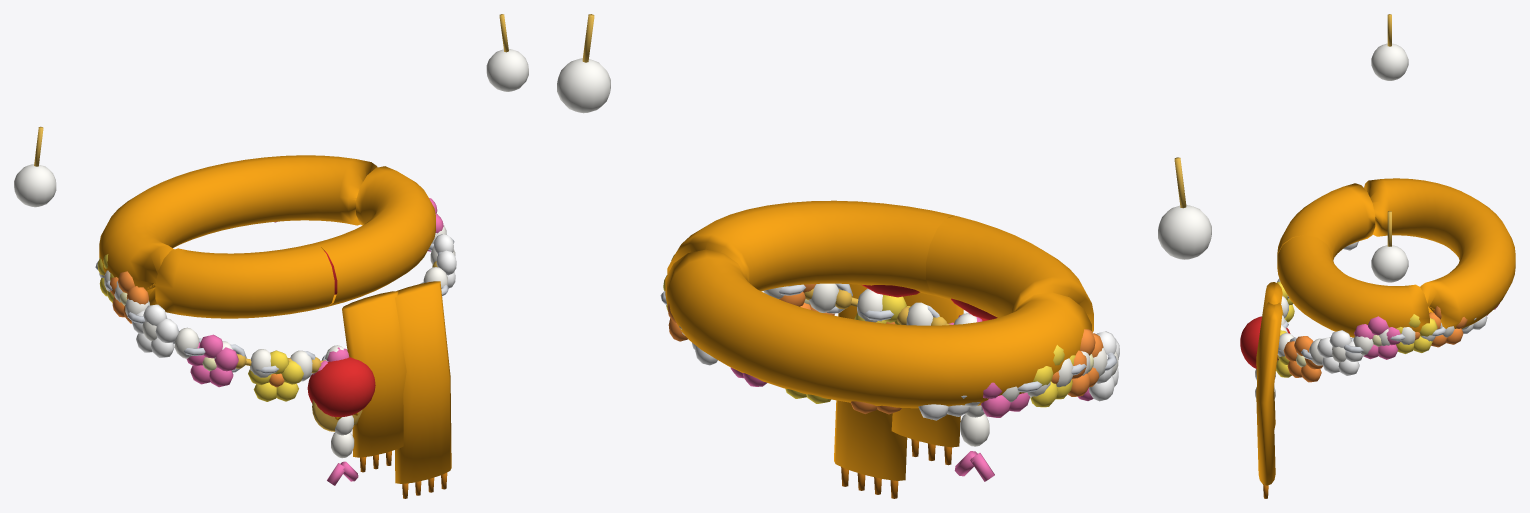
Rendered from props-j.glb.
3 renders of one model, left to right at view 1: azimuth 30°, elevation 25°; view 2: azimuth 150°, elevation 25°; view 3: azimuth 270°, elevation 25°, orthographic. The views are drawn at different scales.
Visible parts, largest first — view 1: j-scarf, j-lei, j-jasmine, j-pearl, j-chain, j-gold; view 2: j-scarf, j-lei, j-pearl, j-jasmine, j-chain, j-bowtie; view 3: j-scarf, j-lei, j-pearl, j-jasmine, j-chain.
Boxes of the visible parts, box(x1,y1,x2,y2) form: j-scarf: box(99, 155, 451, 498); j-lei: box(97, 198, 456, 401); j-jasmine: box(99, 225, 455, 485); j-pearl: box(14, 14, 528, 207); j-chain: box(95, 235, 454, 378); j-gold: box(236, 261, 437, 431); j-scarf: box(665, 200, 1093, 498); j-lei: box(663, 254, 1119, 420); j-pearl: box(557, 14, 1211, 259); j-jasmine: box(682, 283, 1118, 481); j-chain: box(660, 283, 1117, 411); j-bowtie: box(861, 284, 997, 320); j-scarf: box(1256, 178, 1515, 498); j-lei: box(1276, 241, 1499, 382); j-pearl: box(1371, 14, 1408, 282); j-jasmine: box(1240, 278, 1468, 398); j-chain: box(1278, 296, 1476, 360).
Bounding box in the file's own units: 0.433 × 0.3174 × 0.2322.
